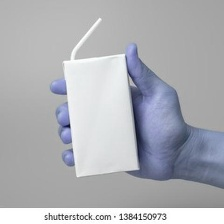carton: (56, 51, 148, 183)
drinking_straw: (63, 14, 112, 61)
